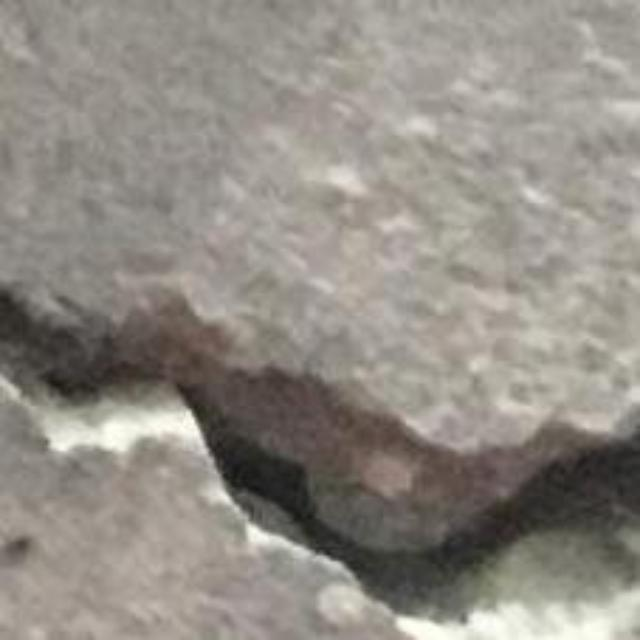crack: (0, 291, 639, 611)
